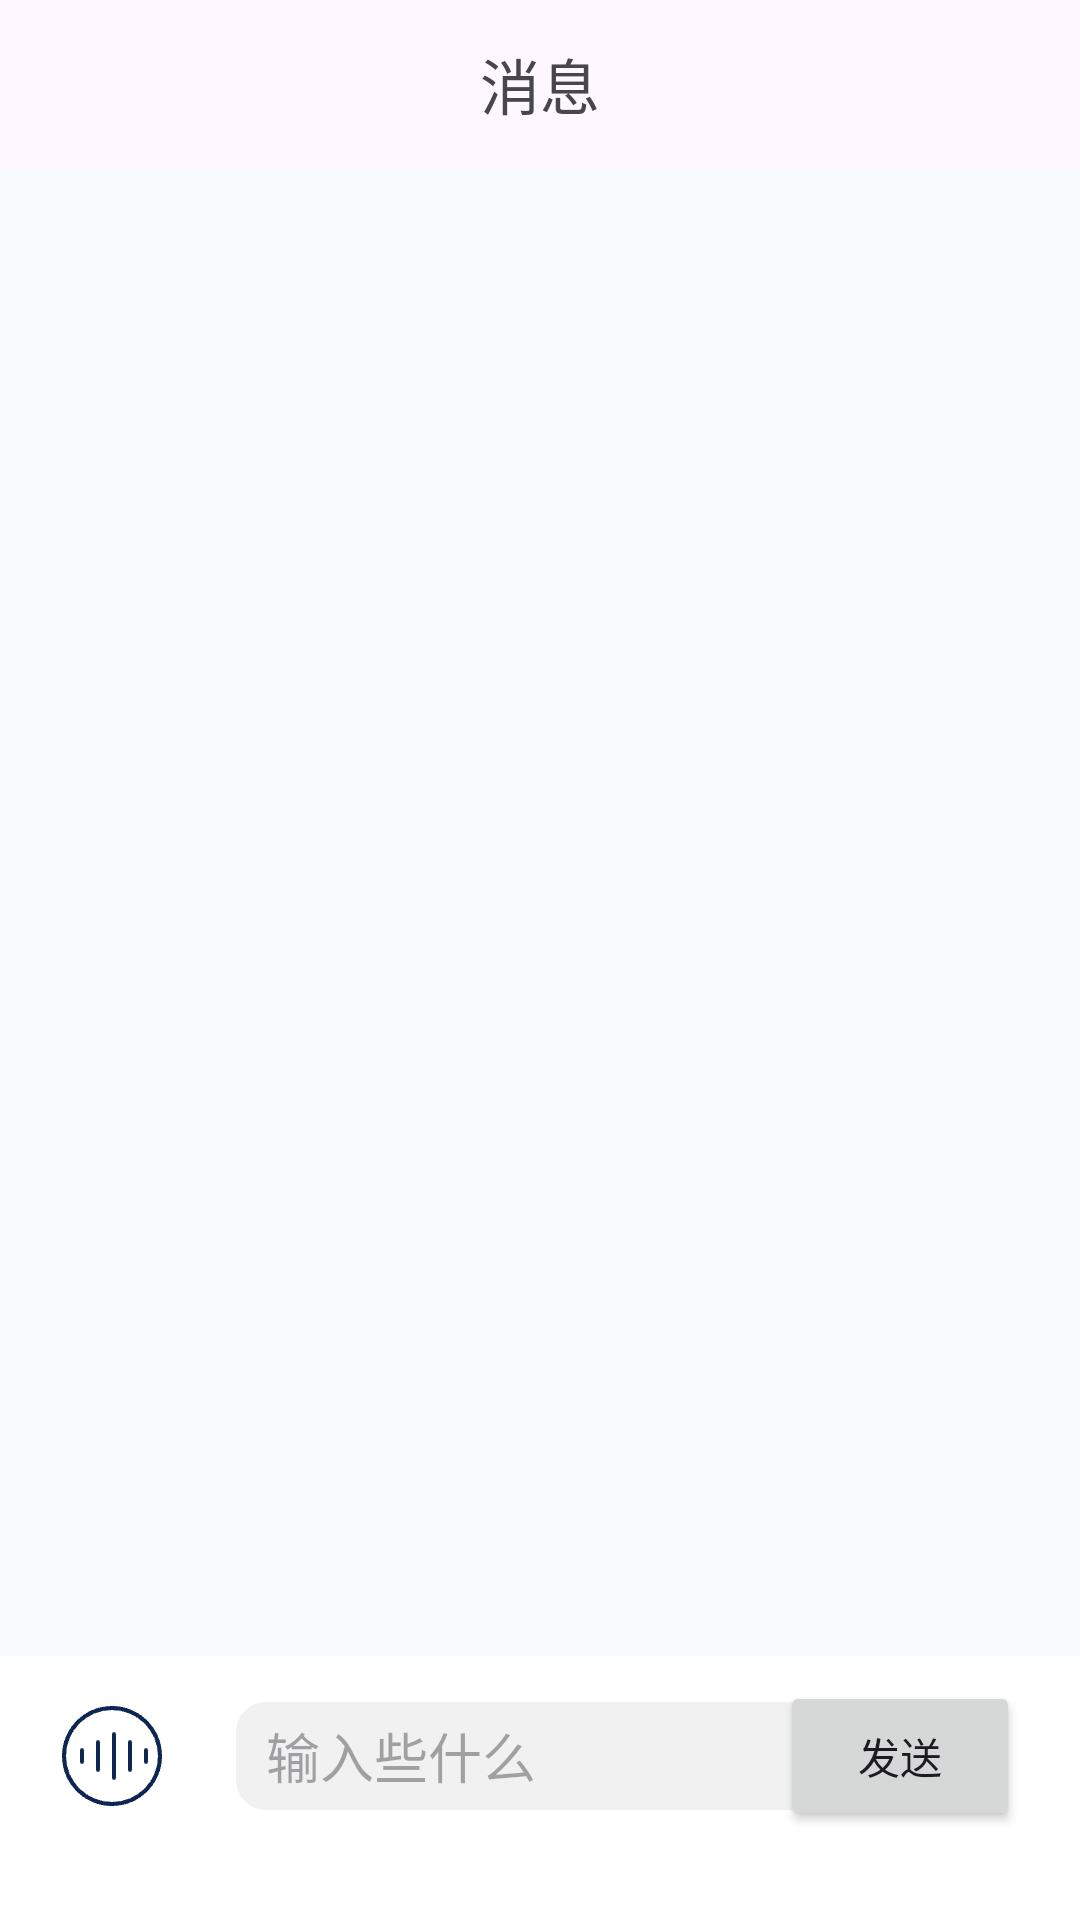

Screen size 1080 × 1920. Icon name, then its center in pixels as (x=x, y=y):
voice: (x=112, y=1756)
